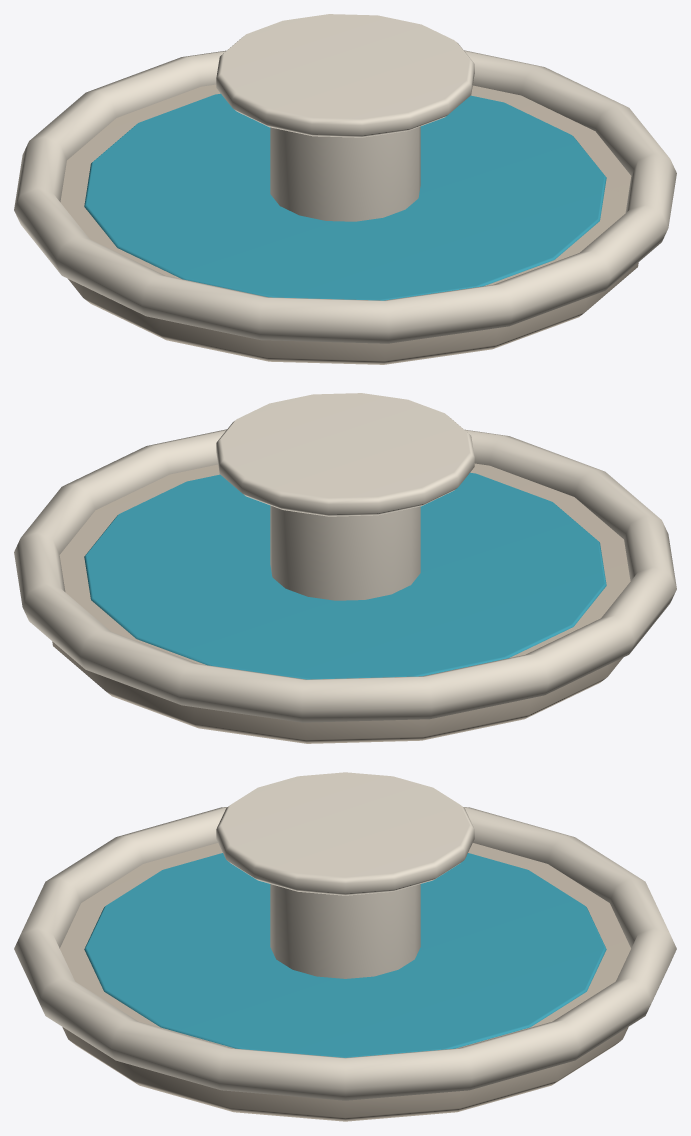
The picture shows the model from 3 angles, top to bottom: view 1: azimuth 30°, elevation 25°; view 2: azimuth 150°, elevation 25°; view 3: azimuth 270°, elevation 25°; orthographic projection.
Parts seen in each view (by area): view 1: LOD2_FOUNTAIN_CENTRAL_Water, LOD2_FOUNTAIN_CENTRAL_SeatRing, LOD2_FOUNTAIN_CENTRAL_UpperBowl, LOD2_FOUNTAIN_CENTRAL_Basin, LOD2_FOUNTAIN_CENTRAL_Pedestal; view 2: LOD2_FOUNTAIN_CENTRAL_Water, LOD2_FOUNTAIN_CENTRAL_SeatRing, LOD2_FOUNTAIN_CENTRAL_UpperBowl, LOD2_FOUNTAIN_CENTRAL_Basin, LOD2_FOUNTAIN_CENTRAL_Pedestal; view 3: LOD2_FOUNTAIN_CENTRAL_Water, LOD2_FOUNTAIN_CENTRAL_SeatRing, LOD2_FOUNTAIN_CENTRAL_UpperBowl, LOD2_FOUNTAIN_CENTRAL_Basin, LOD2_FOUNTAIN_CENTRAL_Pedestal.
Part boxes in pixels (x1=…): LOD2_FOUNTAIN_CENTRAL_Water: x1=84, y1=93, x2=606, y2=300; LOD2_FOUNTAIN_CENTRAL_SeatRing: x1=14, y1=50, x2=676, y2=343; LOD2_FOUNTAIN_CENTRAL_UpperBowl: x1=216, y1=14, x2=474, y2=137; LOD2_FOUNTAIN_CENTRAL_Basin: x1=60, y1=84, x2=638, y2=364; LOD2_FOUNTAIN_CENTRAL_Pedestal: x1=270, y1=126, x2=420, y2=221; LOD2_FOUNTAIN_CENTRAL_Water: x1=84, y1=472, x2=606, y2=679; LOD2_FOUNTAIN_CENTRAL_SeatRing: x1=14, y1=429, x2=676, y2=722; LOD2_FOUNTAIN_CENTRAL_UpperBowl: x1=216, y1=393, x2=474, y2=516; LOD2_FOUNTAIN_CENTRAL_Basin: x1=52, y1=463, x2=630, y2=743; LOD2_FOUNTAIN_CENTRAL_Pedestal: x1=270, y1=505, x2=420, y2=600; LOD2_FOUNTAIN_CENTRAL_Water: x1=84, y1=853, x2=606, y2=1057; LOD2_FOUNTAIN_CENTRAL_SeatRing: x1=14, y1=807, x2=676, y2=1100; LOD2_FOUNTAIN_CENTRAL_UpperBowl: x1=216, y1=772, x2=474, y2=895; LOD2_FOUNTAIN_CENTRAL_Basin: x1=60, y1=843, x2=630, y2=1121; LOD2_FOUNTAIN_CENTRAL_Pedestal: x1=270, y1=884, x2=420, y2=978.
Size of what is drawn, in the model's own units: 11.04 by 3.19 by 11.04.
